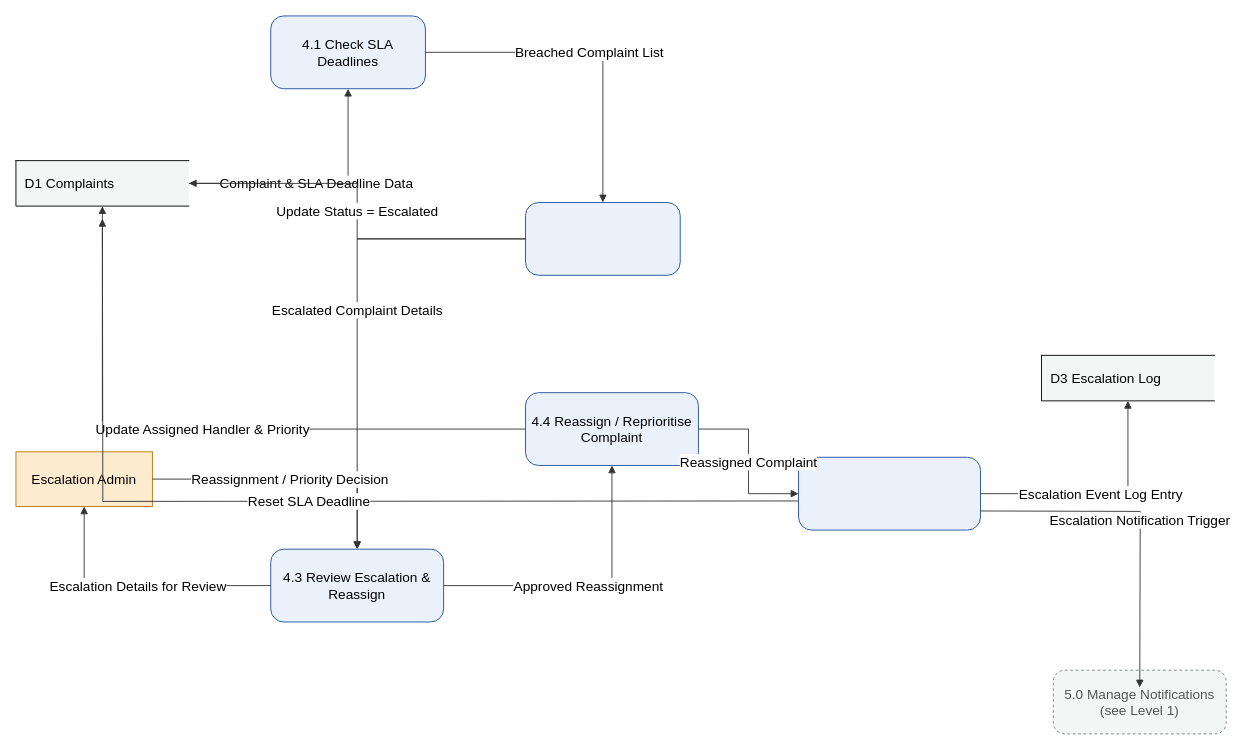
Image size: 1246x750. Some labels were removed from this diagram. The shapes that lost their labels are listed below. From the top down, each one's box as (x1, y1, x2, y2) in pixels, then its label:
(525, 202, 680, 275): 4.2 Flag Complaint as Escalated
(798, 456, 981, 530): 4.5 Log Escalation Event & Reset SLA
